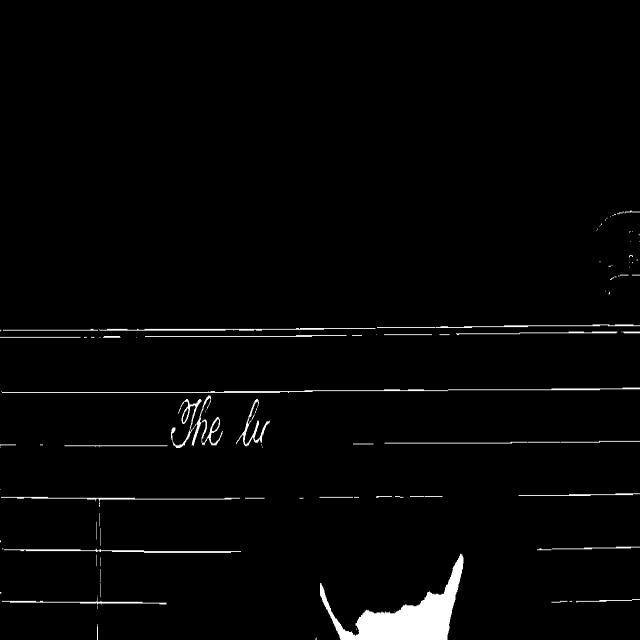hand: (320, 555, 463, 639)
noise: (248, 386, 640, 396), (133, 326, 434, 337), (438, 324, 640, 335), (0, 546, 235, 555), (0, 494, 251, 502), (0, 389, 248, 396), (16, 596, 120, 608), (536, 544, 640, 554), (516, 491, 640, 498), (497, 439, 640, 445), (44, 443, 170, 449), (551, 597, 640, 604), (375, 491, 444, 499), (389, 441, 490, 446), (319, 492, 367, 499), (121, 600, 143, 604), (0, 599, 17, 604), (352, 443, 378, 446), (151, 601, 167, 604)
not-noise: (170, 393, 272, 449)
page-marker: (596, 212, 640, 279)
